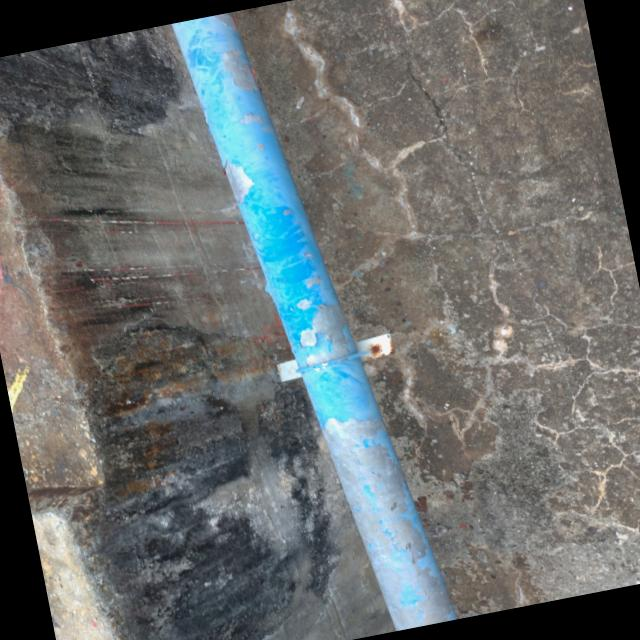gas: (172, 12, 457, 630)
